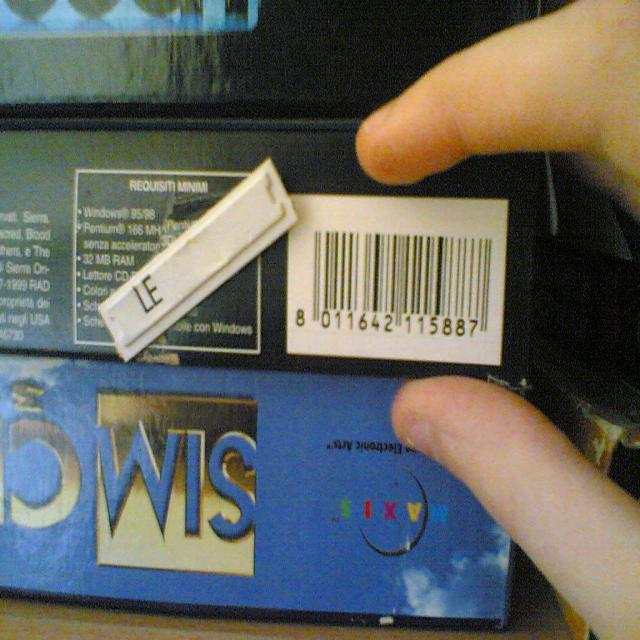barcode: (288, 195, 509, 365)
